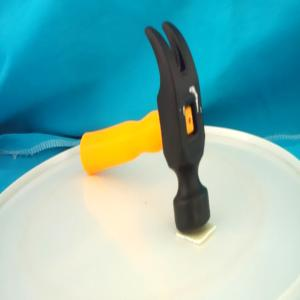martelo: (79, 17, 210, 235)
